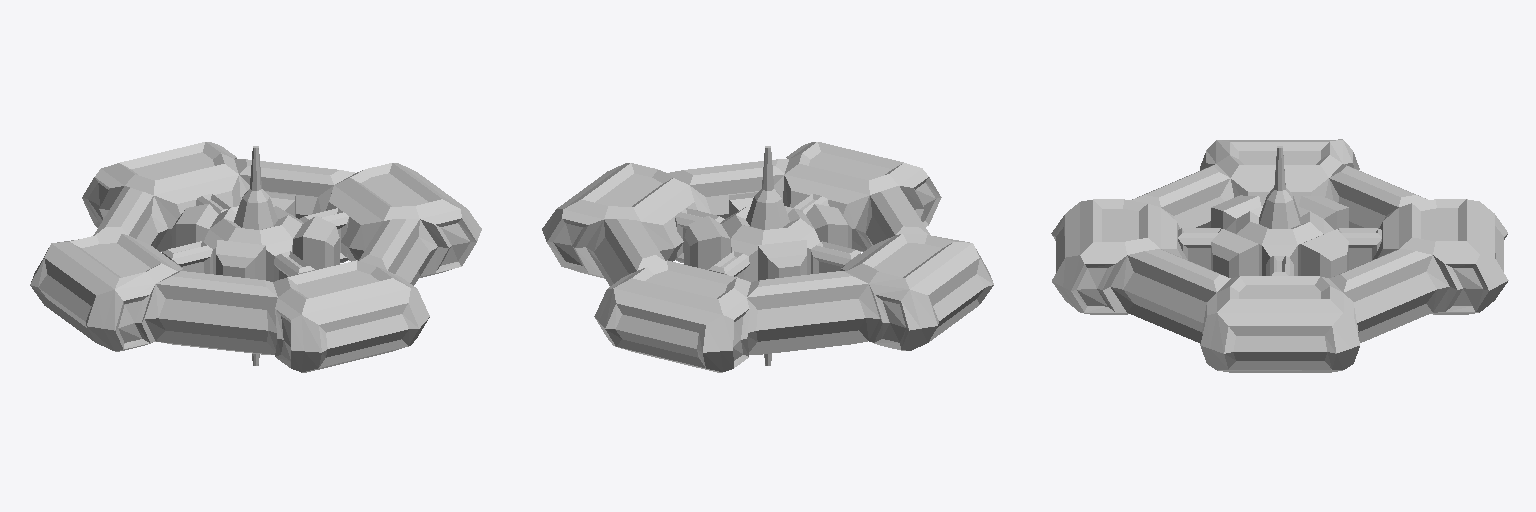
File: Station.obj
3 views of the same model, side by side, from view 1: azimuth 30°, elevation 25°; view 2: azimuth 150°, elevation 25°; view 3: azimuth 270°, elevation 25° (orthographic).
Parts seen in each view (by area): view 1: map; view 2: map; view 3: map.
Part boxes in pixels (x1,y1,x2,y2): map: (30,142,481,372); map: (542,142,993,372); map: (1051,139,1508,372).
Size of the model in its own units: 9.7 by 5.1 by 9.7.